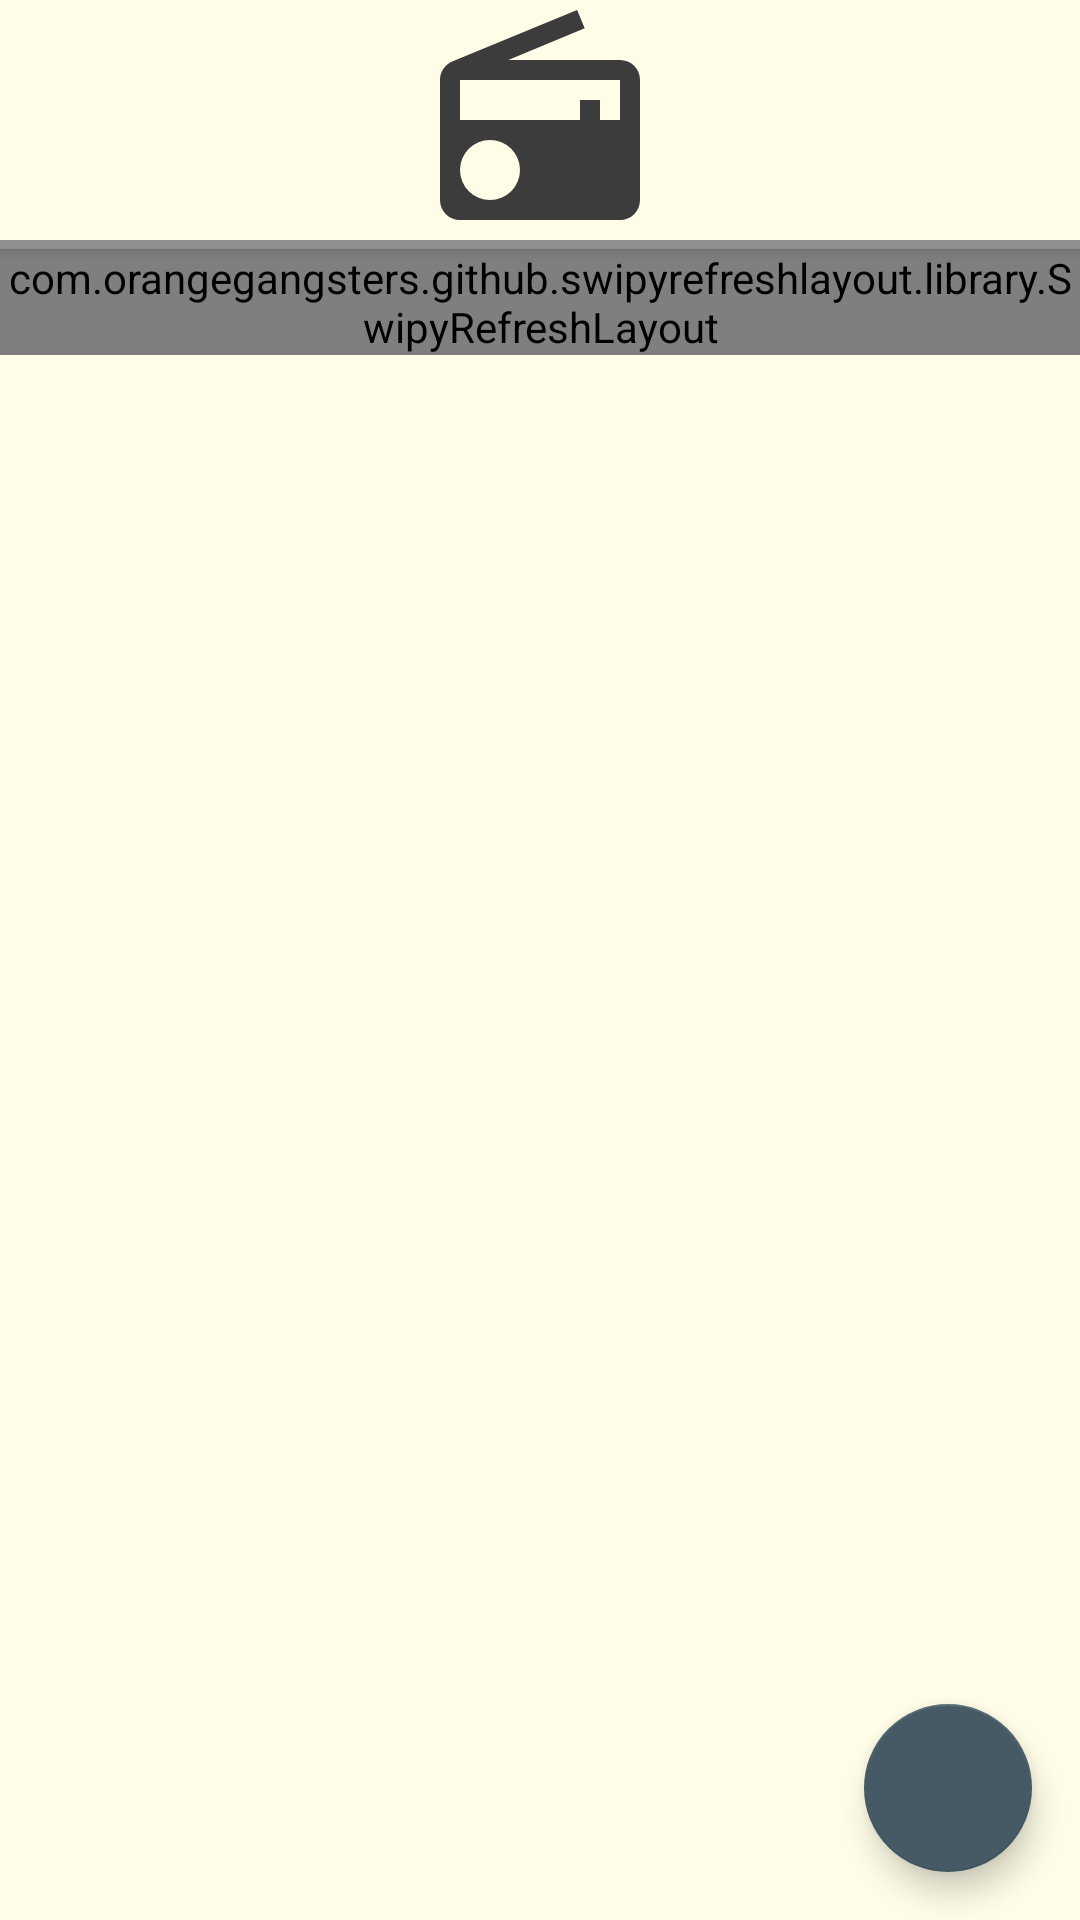

Screen size 1080 x 1920. Icon name, then its center in pixels as point (x, y):
radio: point (540, 115)
